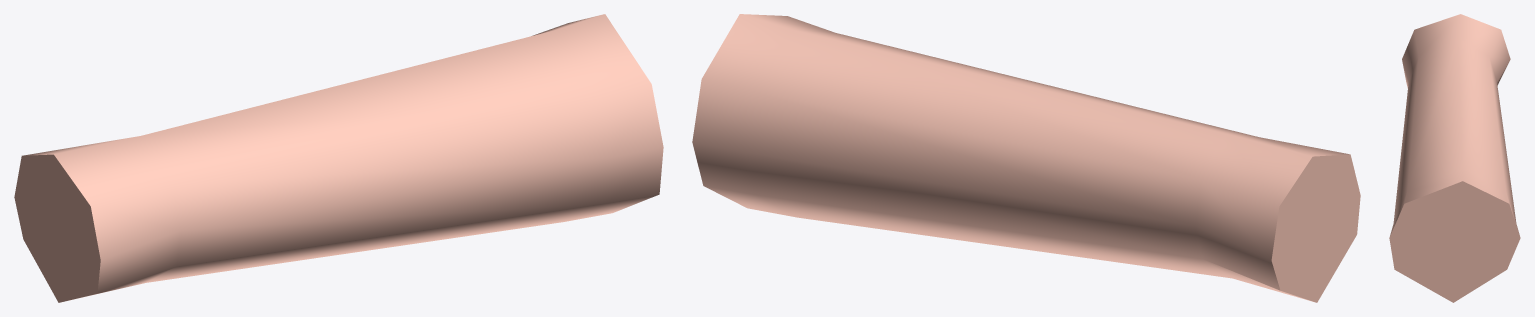
The model's file is ForeArm_R.FBX.
3 renders of one model, left to right at view 1: azimuth 30°, elevation 25°; view 2: azimuth 150°, elevation 25°; view 3: azimuth 270°, elevation 25°, orthographic. The views are drawn at different scales.
Parts seen in each view (by area): view 1: ForeArm_R; view 2: ForeArm_R; view 3: ForeArm_R.
Boxes of the visible parts, left/top/right/bottom form: ForeArm_R: left=14, top=14, right=663, bottom=302; ForeArm_R: left=692, top=14, right=1360, bottom=302; ForeArm_R: left=1389, top=14, right=1520, bottom=302.
Size of the model in its own units: 10.45 by 3.41 by 3.5.
